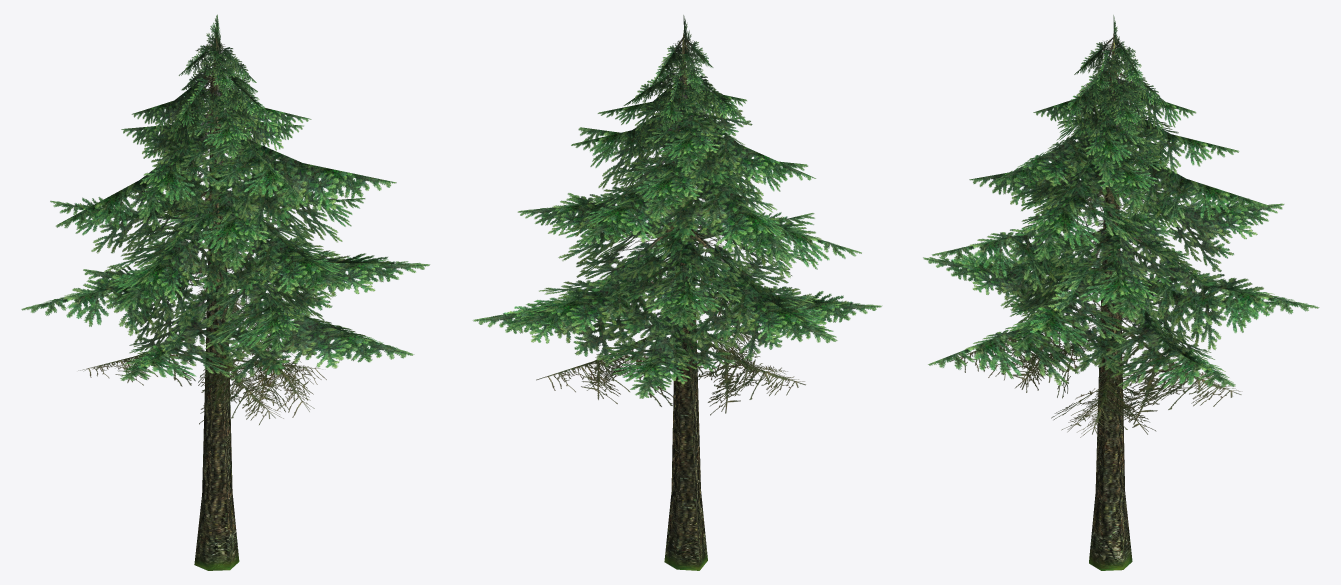
Rendered from tree4_2.glb.
3 renders of one model, left to right at view 1: azimuth 30°, elevation 25°; view 2: azimuth 150°, elevation 25°; view 3: azimuth 270°, elevation 25°, orthographic.
Parts seen in each view (by area): view 1: tree4_2; view 2: tree4_2; view 3: tree4_2.
Boxes of the visible parts, x1,y1,x2,y2 form: tree4_2: [21, 14, 429, 570]; tree4_2: [473, 15, 881, 570]; tree4_2: [923, 15, 1319, 570].
Size of the model in its own units: 10.74 by 16.09 by 10.85.
3 materials, 3 textured.
